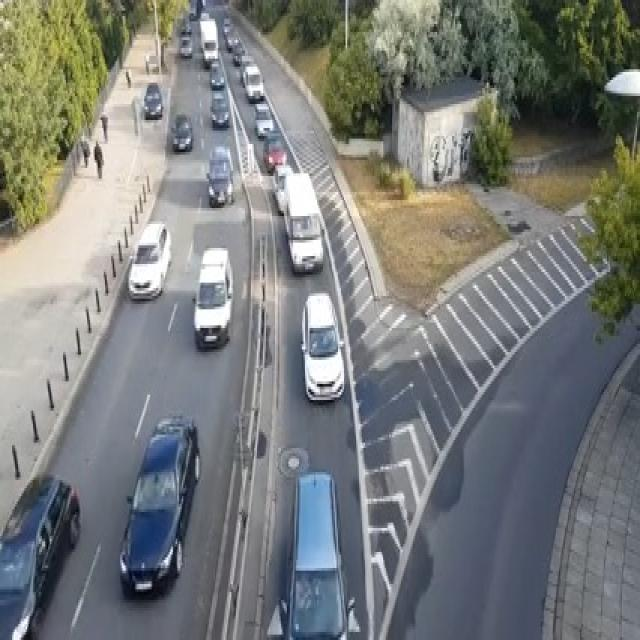car: (267, 470, 359, 638), (119, 413, 200, 598), (0, 472, 80, 637), (299, 290, 344, 402), (192, 246, 233, 350), (282, 171, 324, 272), (128, 221, 171, 299), (206, 144, 233, 205), (263, 128, 287, 173), (272, 163, 293, 213), (170, 112, 192, 152), (242, 64, 264, 101), (254, 101, 273, 139), (209, 91, 228, 128), (143, 83, 162, 117), (209, 59, 224, 88), (231, 40, 245, 64), (179, 35, 192, 56), (222, 16, 232, 35), (180, 18, 191, 34)
